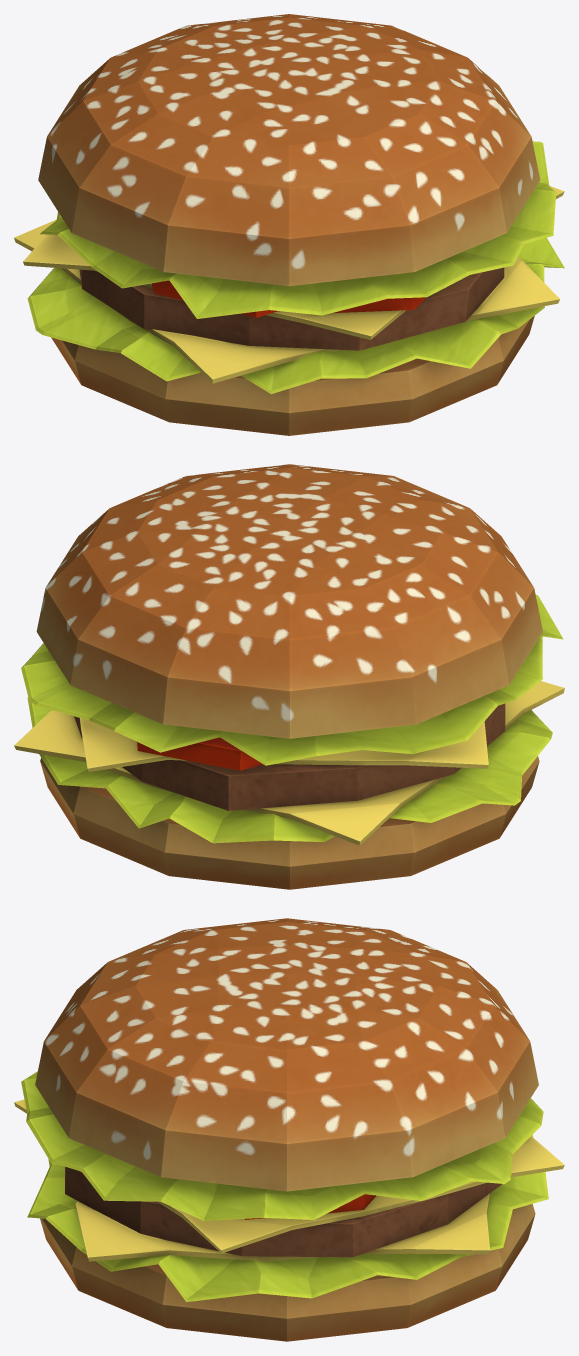
The model's file is burger-fixed.glb.
The picture shows the model from 3 angles, top to bottom: view 1: azimuth 30°, elevation 25°; view 2: azimuth 150°, elevation 25°; view 3: azimuth 270°, elevation 25°; orthographic projection.
Parts seen in each view (by area): view 1: Hamburguer_Mesh; view 2: Hamburguer_Mesh; view 3: Hamburguer_Mesh.
Part boxes in pixels (x1=…): Hamburguer_Mesh: x1=14, y1=14, x2=564, y2=435; Hamburguer_Mesh: x1=14, y1=464, x2=564, y2=889; Hamburguer_Mesh: x1=14, y1=918, x2=564, y2=1341.
Size of the model in its own units: 7.24 by 3.81 by 7.15.
1 material, 1 textured.
